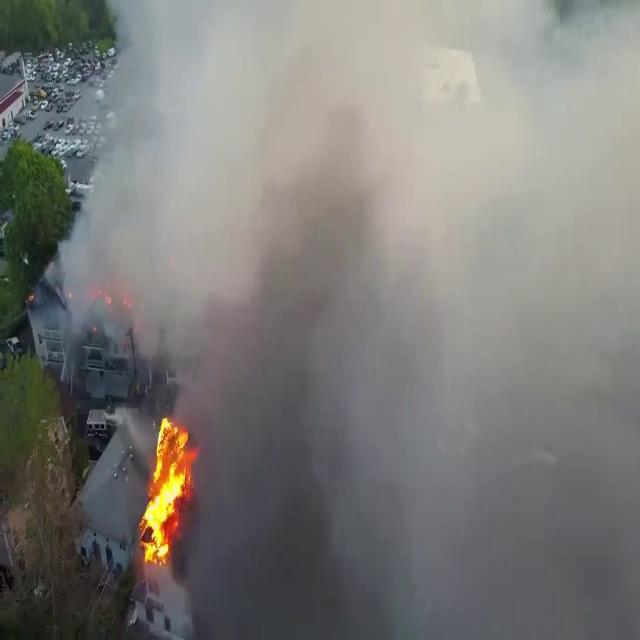Fire: (136, 405, 198, 568)
Smoke: (45, 1, 639, 634)
